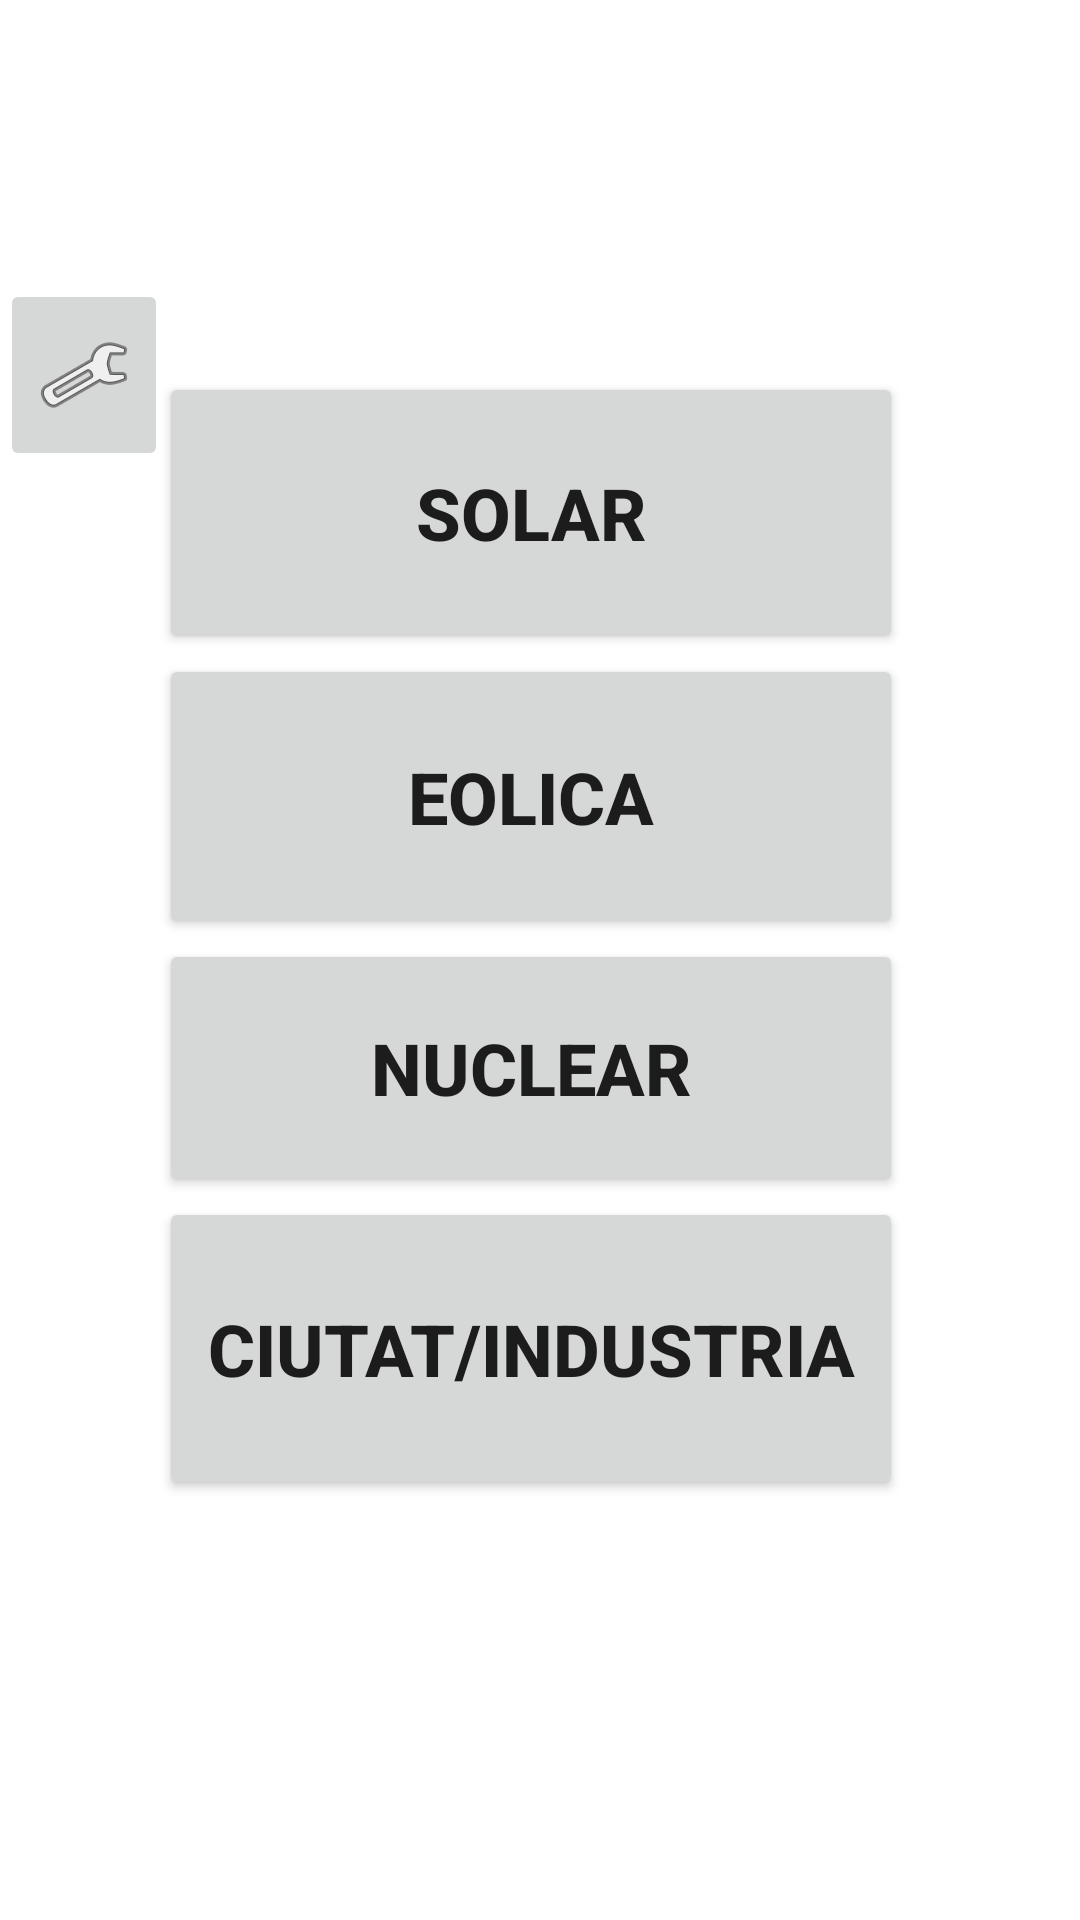

Locate icon controls on the screen. Image size 1080*1920, boxes as (x1, y1, x2, y2).
preferences: (12, 297, 156, 453)
